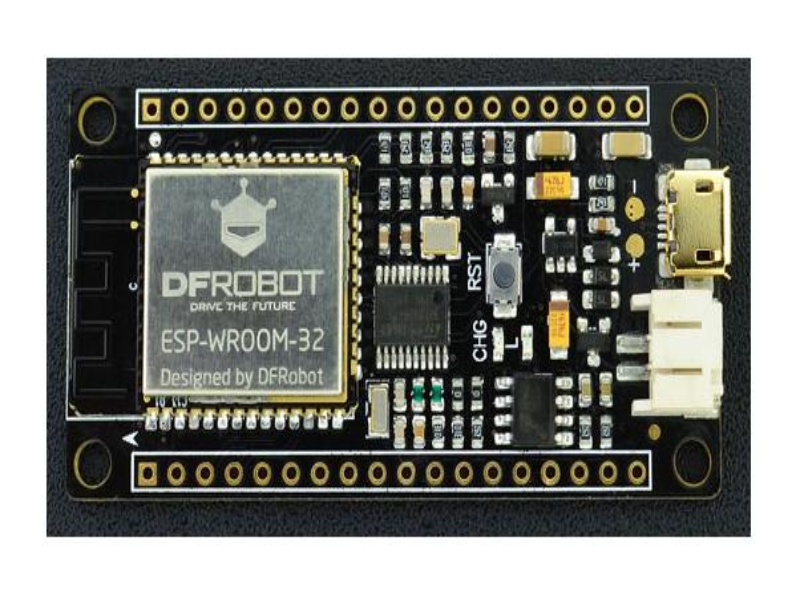esp32: (62, 70, 729, 512)
